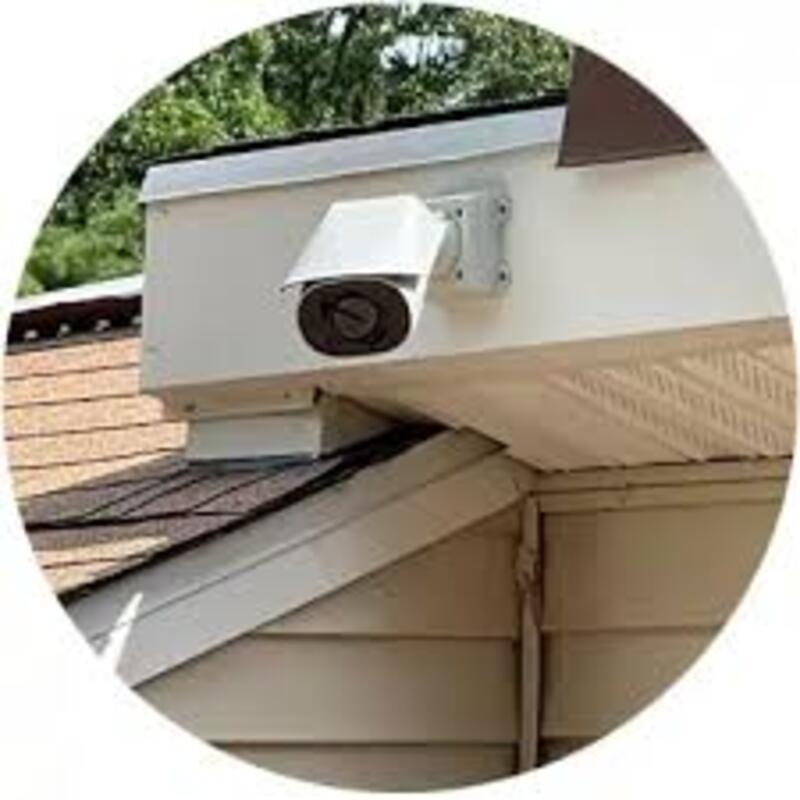bullet: (286, 184, 449, 362)
